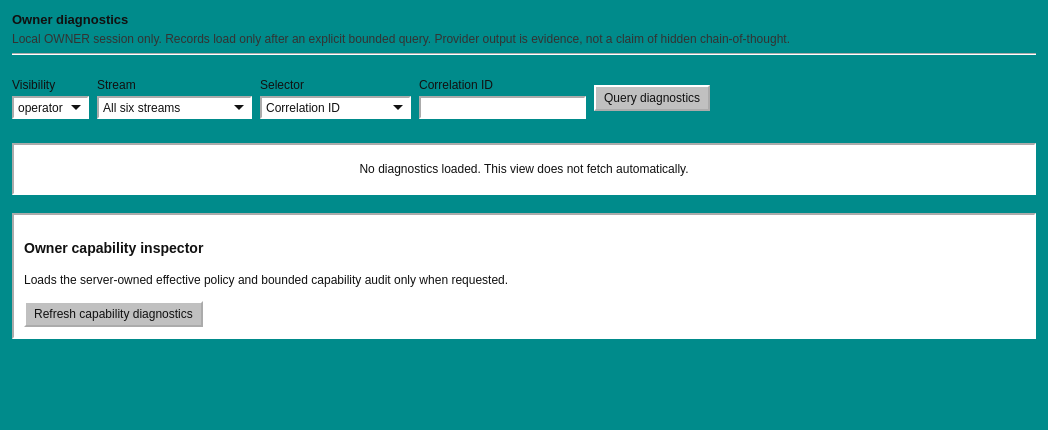
Test: owner diagnostic dashboard › preserves loaded records when a later bounded page fails
Step 1. Click the button "Query diagnostics" → point(652, 98), box [594,85,710,111]
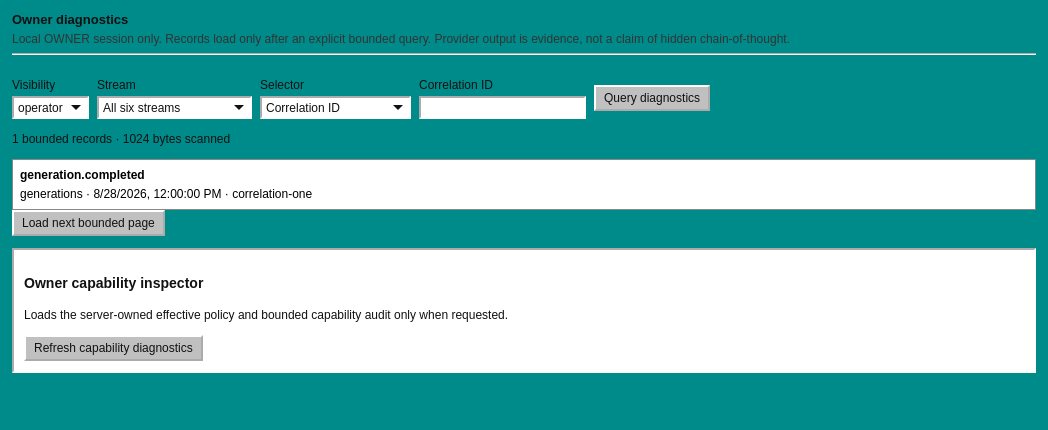
Now the button "generation.completed" is shown, box [12,160,1036,210]
Step 2. Click the button "Load next bounded page" → point(88, 223), box [12,210,165,236]
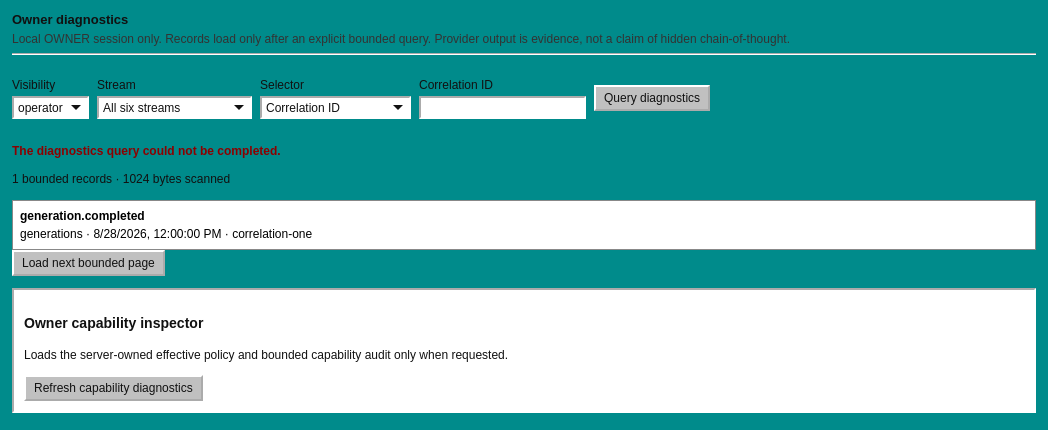
Now the button "generation.completed" is shown, box [12,200,1036,250]
Now the message "The diagnostics query could not be completed." is shown, box [12,144,281,158]
